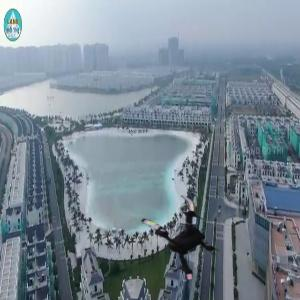drone: (137, 195, 232, 290)
